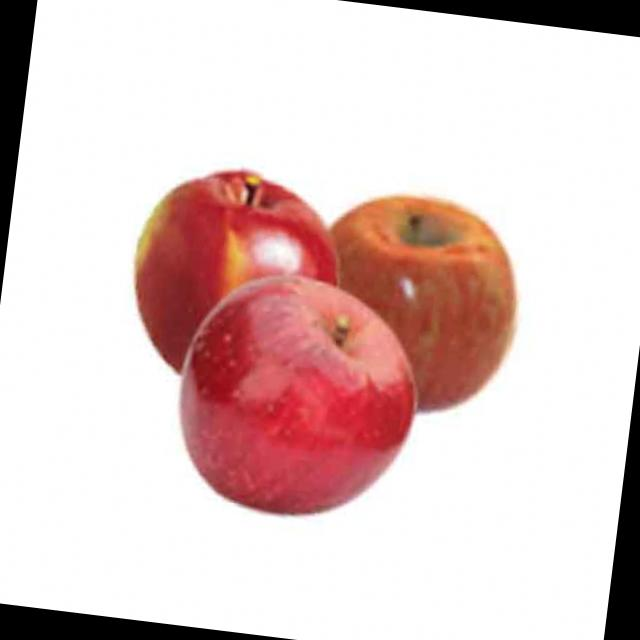apple: (163, 262, 433, 538), (288, 179, 531, 437), (117, 144, 355, 405)
